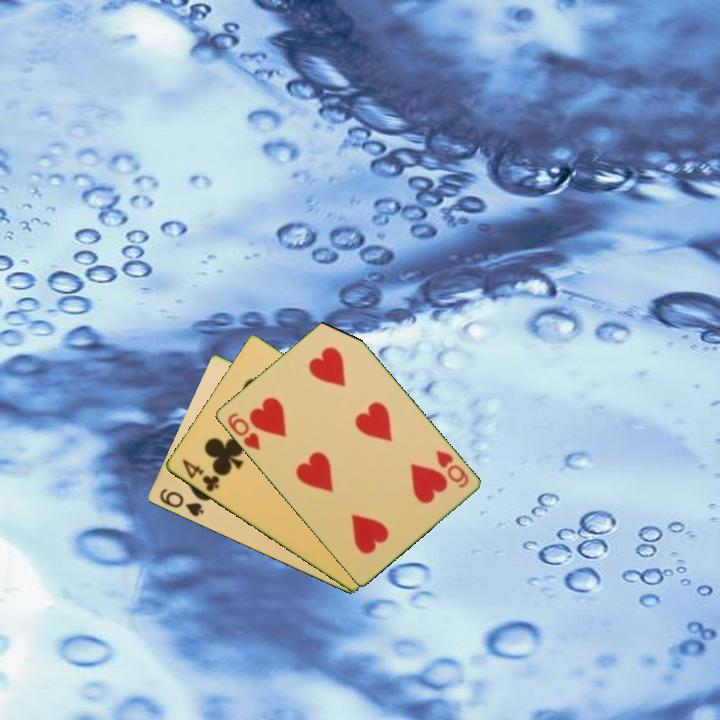4c: (178, 455, 222, 495)
6h: (223, 409, 263, 453), (432, 446, 471, 491)
6s: (155, 485, 206, 520)
